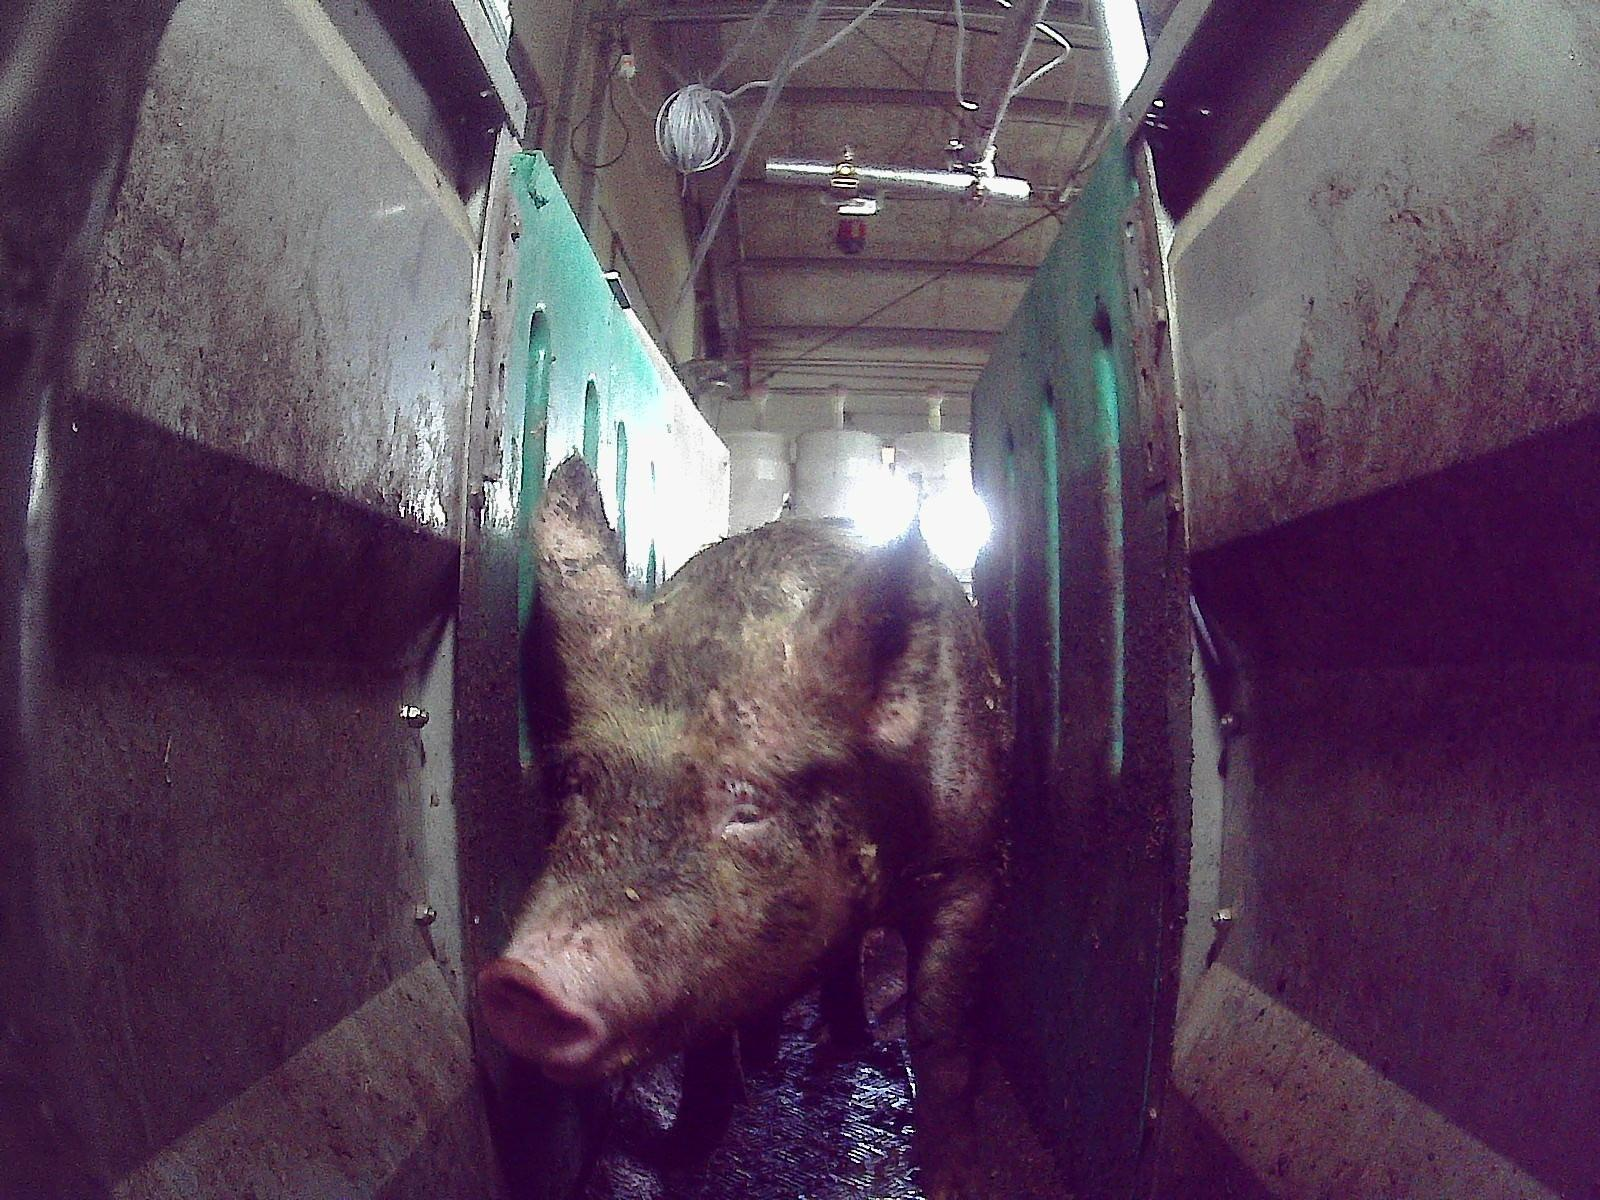Face: (471, 595, 875, 1088)
